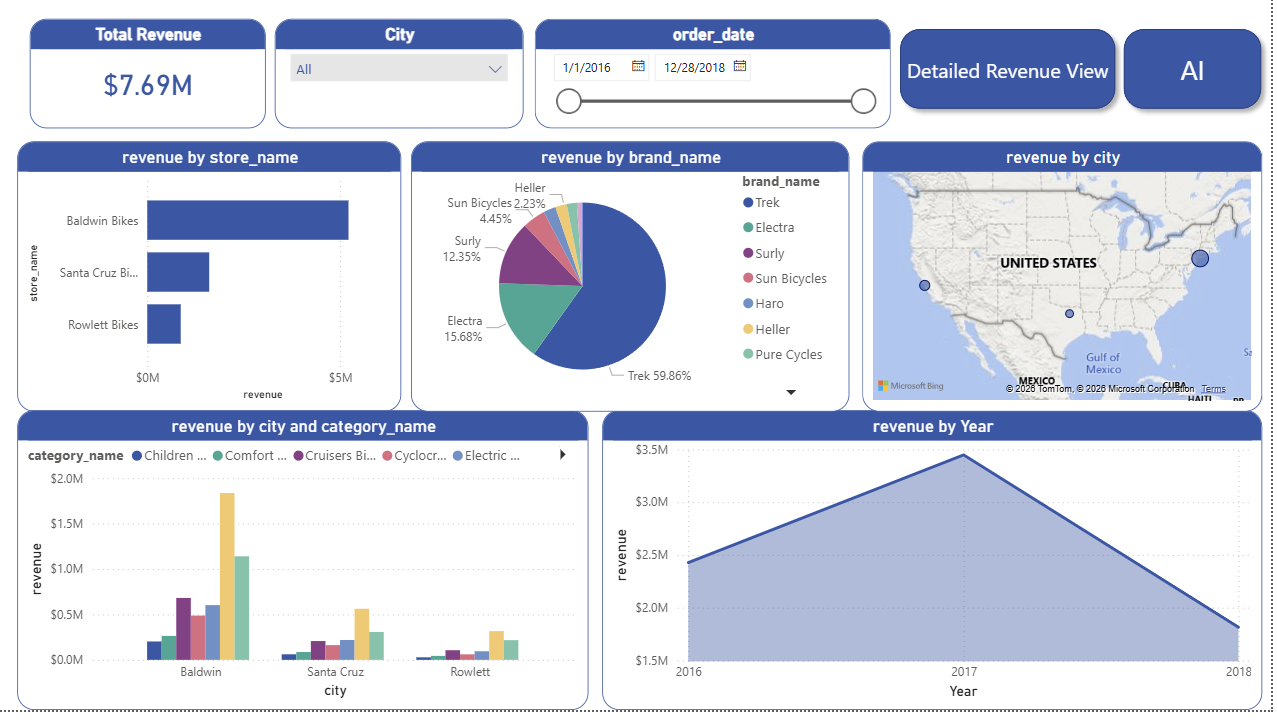

The dashboard page shown, as its layout file describes it:
{"tool":"powerbi","page":{"name":"Page 1","canvas":[1280,720],"ordinal":0},"visuals":[{"type":"shape","box":[900,29.4,233.4,97.8],"z":0},{"type":"barChart","fields":{"Category":["Stores.store_name"],"Y":["Table2.revenue"]},"box":[25.7,151.4,384.3,270],"z":1000},{"type":"clusteredColumnChart","fields":{"Category":["Stores.city"],"Series":["Category.category_name"],"Y":["Table2.revenue"]},"box":[25.7,420,571.4,300],"z":2000},{"type":"lineChart","fields":{"Y":["Table2.revenue"],"Category":["Orders.order_date.Variation.Date Hierarchy.Year","Orders.order_date.Variation.Date Hierarchy.Quarter","Orders.order_date.Variation.Date Hierarchy.Month","Orders.order_date.Variation.Date Hierarchy.Day"]},"box":[611.4,420,660,300],"z":3000},{"type":"pieChart","fields":{"Y":["Table2.revenue"],"Category":["Brands.brand_name"]},"box":[420,151.4,438.6,270],"z":4000},{"type":"map","fields":{"Category":["Stores.city"],"Size":["Table2.revenue"]},"box":[871.4,151.4,400,270],"z":5000},{"type":"slicer","title":"City","fields":{"Values":["Stores.city"]},"box":[283.7,29.1,248.8,109.3],"z":6000},{"type":"slicer","title":"order_date","fields":{"Values":["Orders.order_date"]},"box":[544.2,29.1,355.8,109.3],"z":7000},{"type":"card","title":"Total Revenue","fields":{"Values":["Table2.revenue"]},"box":[38.4,29.1,236,109.3],"z":8000},{"type":"shape","box":[1124,29.4,155.6,97.8],"z":9000}]}

Visuals, with their boxes in screenshot pixels (x1, y1, x2, y2), scaled from the page's 1280x720 canvas onto the 1277x725 screenshot:
shape: 898:30:1131:128
barChart - Stores.store_name x Table2.revenue: 26:152:409:424
clusteredColumnChart - Stores.city x Category.category_name: 26:423:596:724
lineChart - Table2.revenue x Orders.order_date.Variation.Date Hierarchy.Year: 610:423:1268:724
pieChart - Table2.revenue x Brands.brand_name: 419:152:857:424
map - Stores.city x Table2.revenue: 869:152:1268:424
"City" slicer: 283:29:531:139
"order_date" slicer: 543:29:898:139
"Total Revenue" card: 38:29:274:139
shape: 1121:30:1276:128
